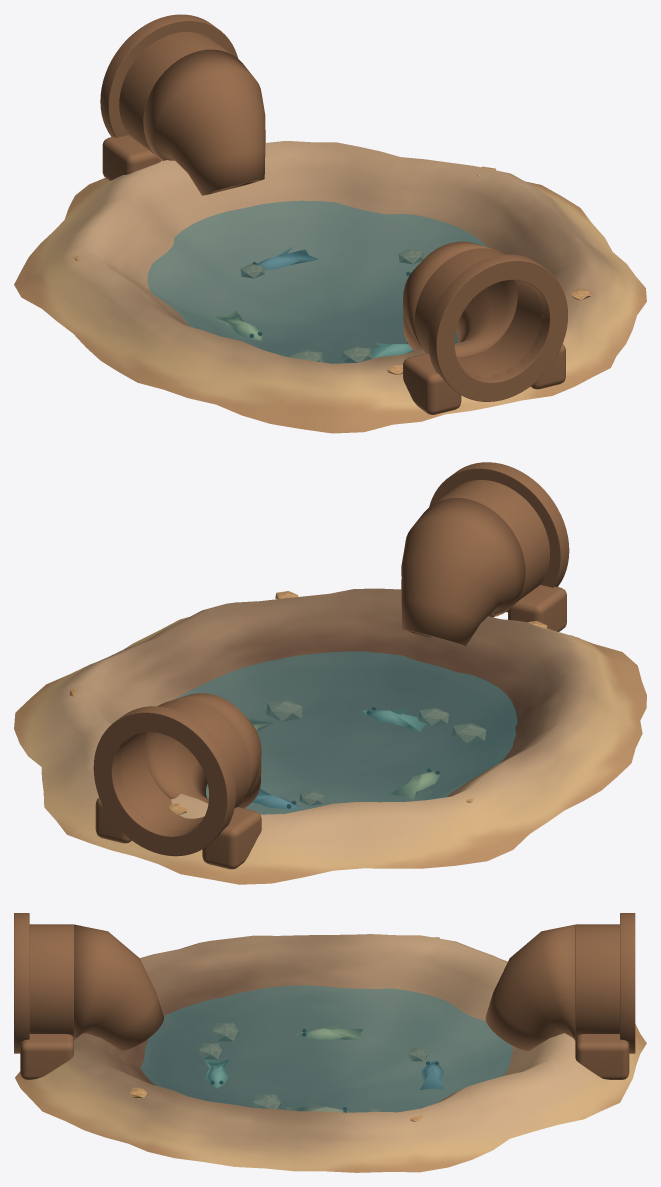
Rendered from fish-pond-v2.glb.
The picture shows the model from 3 angles, top to bottom: view 1: azimuth 30°, elevation 25°; view 2: azimuth 150°, elevation 25°; view 3: azimuth 270°, elevation 25°; orthographic projection. The views are drawn at different scales.
Parts seen in each view (by area): view 1: EARTH | one broad excavated clay bowl, POND | permanent filled water plane, POND V2 | north hollow descending clay transition, POND V2 | south machine_collar, POND V2 | south machine_throat, POND V2 | south hollow descending clay transition, POND V2 | north machine_throat, POND V2 | north machine_collar, POND V2 | south mouth saddle, POND V2 | north mouth saddle, POND V2 | south mouth saddle.001, POND | fish 02 slate body (+1 smaller); view 2: EARTH | one broad excavated clay bowl, POND | permanent filled water plane, POND V2 | south hollow descending clay transition, POND V2 | north machine_collar, POND V2 | north machine_throat, POND V2 | north hollow descending clay transition, POND V2 | south machine_throat, POND V2 | south machine_collar, POND V2 | north mouth saddle, POND V2 | south mouth saddle, POND V2 | north mouth saddle.001, POND | fish 04 mottled body (+2 smaller); view 3: EARTH | one broad excavated clay bowl, POND | permanent filled water plane, POND V2 | north hollow descending clay transition, POND V2 | south hollow descending clay transition, POND V2 | north machine_throat, POND V2 | south machine_throat, POND V2 | north mouth saddle.001, POND V2 | north machine_collar, POND V2 | south machine_collar, POND V2 | south mouth saddle.001, POND | fish 03 gold body, POND | fish 02 slate body (+2 smaller).
Part boxes in pixels (<box>): EARTH | one broad excavated clay bowl: <box>14,141,646,433</box>; POND | permanent filled water plane: <box>147,200,487,363</box>; POND V2 | north hollow descending clay transition: <box>143,49,265,195</box>; POND V2 | south machine_collar: <box>428,254,567,401</box>; POND V2 | south machine_throat: <box>415,248,556,389</box>; POND V2 | south hollow descending clay transition: <box>403,241,517,358</box>; POND V2 | north machine_throat: <box>119,32,233,158</box>; POND V2 | north machine_collar: <box>100,14,238,137</box>; POND V2 | south mouth saddle: <box>403,353,461,414</box>; POND V2 | north mouth saddle: <box>102,135,160,180</box>; POND V2 | south mouth saddle.001: <box>530,344,565,389</box>; POND | fish 02 slate body: <box>257,247,318,270</box>; EARTH | one broad excavated clay bowl: <box>14,588,646,884</box>; POND | permanent filled water plane: <box>175,651,517,814</box>; POND V2 | south hollow descending clay transition: <box>401,498,525,646</box>; POND V2 | north machine_collar: <box>93,706,235,856</box>; POND V2 | north machine_throat: <box>105,700,249,843</box>; POND V2 | north hollow descending clay transition: <box>145,693,261,808</box>; POND V2 | south machine_throat: <box>433,480,549,616</box>; POND V2 | south machine_collar: <box>429,462,569,612</box>; POND V2 | north mouth saddle: <box>202,807,261,869</box>; POND V2 | south mouth saddle: <box>508,585,566,631</box>; POND V2 | north mouth saddle.001: <box>95,797,131,843</box>; POND | fish 04 mottled body: <box>363,709,426,731</box>; EARTH | one broad excavated clay bowl: <box>15,934,646,1172</box>; POND | permanent filled water plane: <box>140,985,512,1112</box>; POND V2 | north hollow descending clay transition: <box>485,924,575,1050</box>; POND V2 | south hollow descending clay transition: <box>74,924,163,1050</box>; POND V2 | north machine_throat: <box>575,924,619,1038</box>; POND V2 | south machine_throat: <box>29,924,73,1037</box>; POND V2 | north mouth saddle.001: <box>575,1034,629,1079</box>; POND V2 | north machine_collar: <box>620,913,635,1053</box>; POND V2 | south machine_collar: <box>14,913,29,1053</box>; POND V2 | south mouth saddle.001: <box>20,1034,73,1079</box>; POND | fish 03 gold body: <box>295,1023,362,1039</box>; POND | fish 02 slate body: <box>420,1061,444,1089</box>.
Bounding box in the file's own units: 2.64 × 0.916 × 3.06.
Materials: 2 (1 with a texture image).
